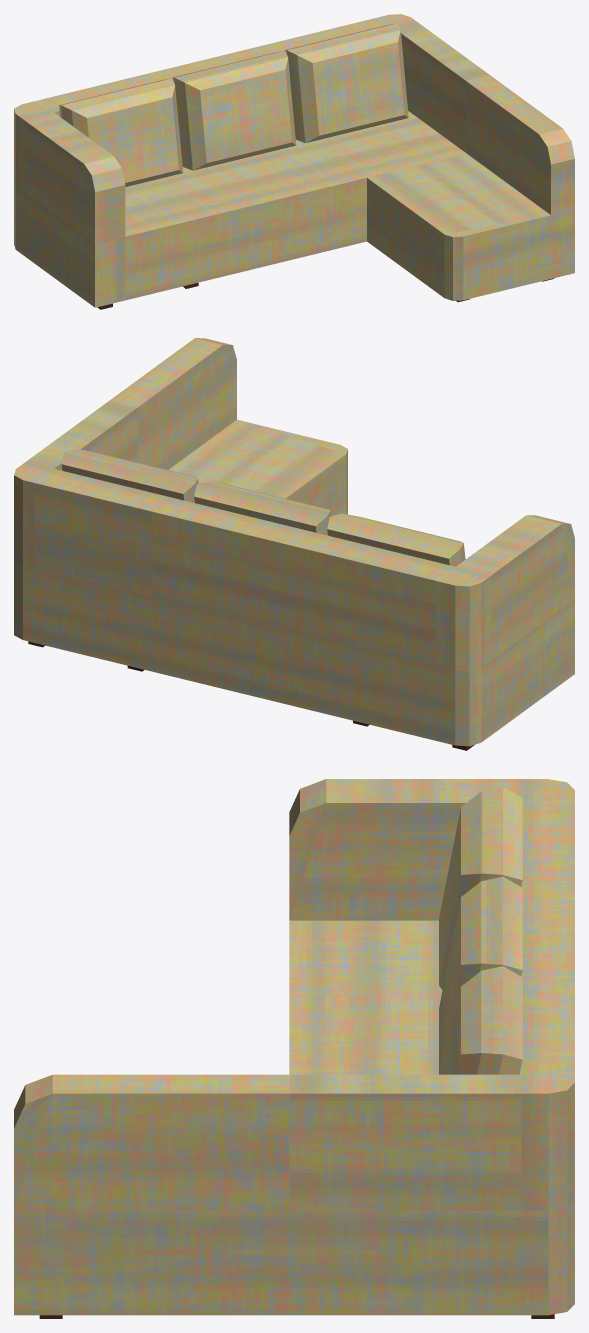
File: couch-c4.glb
3 views of the same model, one above another, from view 1: azimuth 30°, elevation 25°; view 2: azimuth 150°, elevation 25°; view 3: azimuth 270°, elevation 25° (orthographic). The views are drawn at different scales.
Parts seen in each view (by area): view 1: Couch; view 2: Couch; view 3: Couch.
Boxes of the visible parts, bbox=[...] form: Couch: bbox=[14, 14, 574, 307]; Couch: bbox=[14, 338, 574, 746]; Couch: bbox=[14, 779, 574, 1315].
Size of the model in its own units: 1.66 by 0.6213 by 1.25.
Materials: 2 (2 with a texture image).
